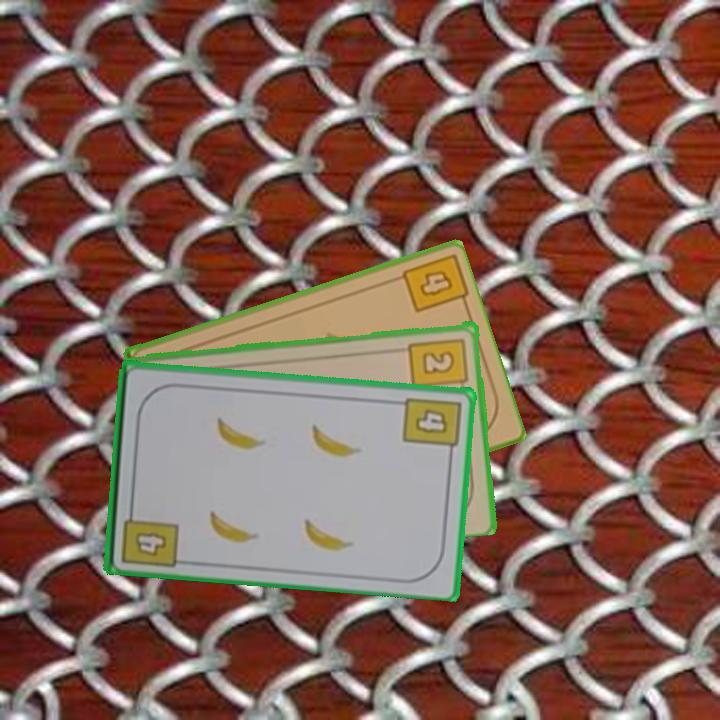2b: (406, 334, 471, 395)
4b: (117, 501, 181, 569), (399, 393, 463, 459), (416, 265, 456, 299)
